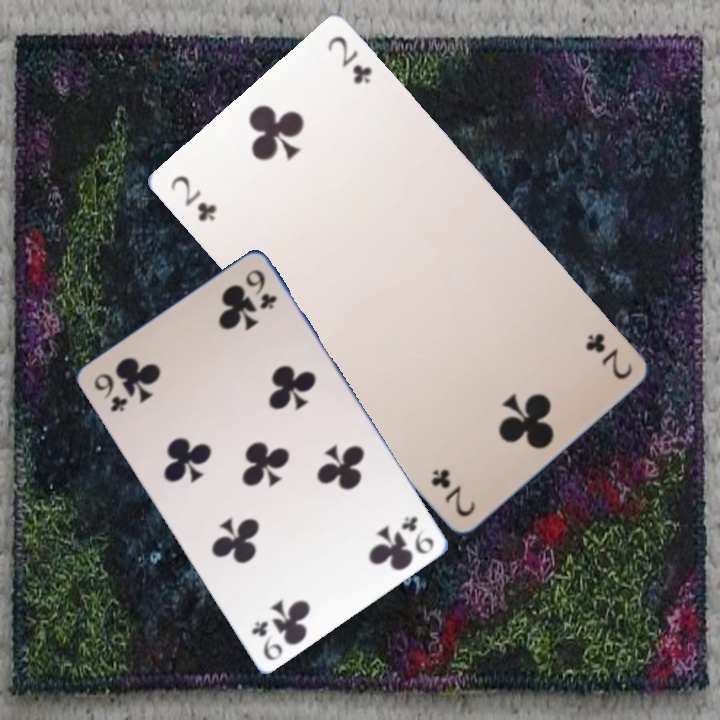2c: (159, 164, 224, 232), (574, 319, 638, 387), (316, 26, 380, 94)
9c: (86, 362, 132, 418), (241, 608, 287, 664), (237, 258, 283, 313), (392, 504, 438, 559)
